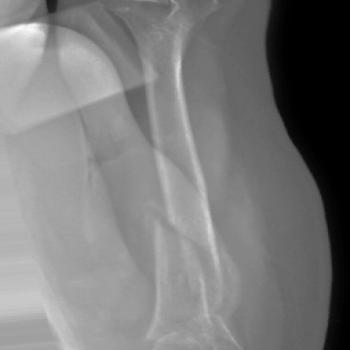Fracture: (148, 212, 228, 266)
